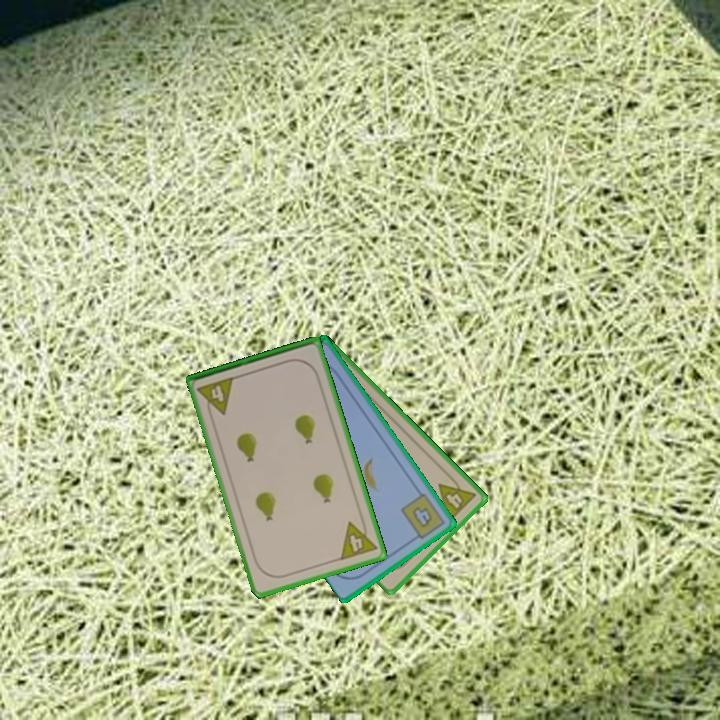4b: (397, 490, 448, 544)
4p: (435, 470, 479, 525), (336, 514, 380, 563), (194, 373, 237, 421)
